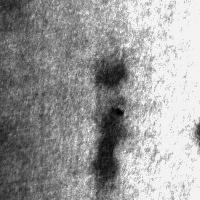patches: (0, 120, 46, 200), (92, 105, 129, 189), (94, 61, 127, 86)
